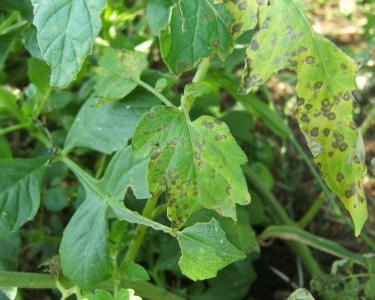Tomato Septoria leaf spot: (242, 3, 369, 228), (124, 101, 254, 231)
